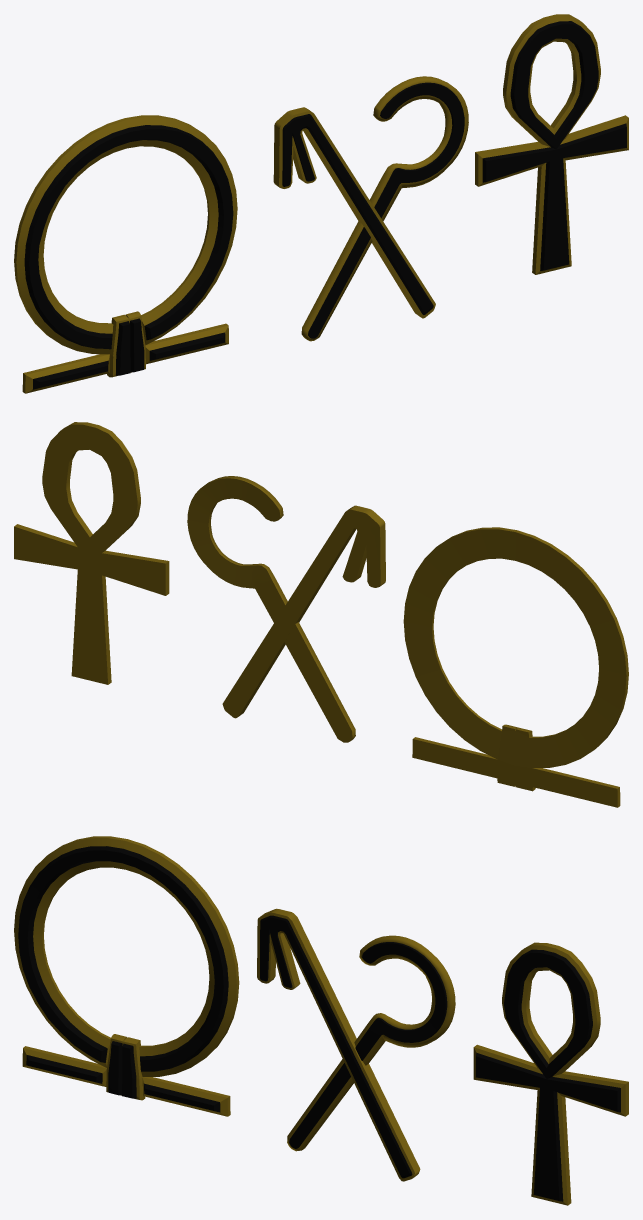
Rendered from Jeroglificos.fbx.
3 renders of one model, top to bottom at view 1: azimuth 30°, elevation 25°; view 2: azimuth 150°, elevation 25°; view 3: azimuth 330°, elevation 25°, orthographic.
Parts seen in each view (by area): view 1: pSphere1, pSphere3, pCube1; view 2: pSphere1, pSphere3, pCube1; view 3: pSphere1, pSphere3, pCube1.
Part boxes in pixels (x1,y1,x2,y2): pSphere1: (14, 115, 237, 393); pSphere3: (273, 76, 468, 341); pCube1: (475, 14, 628, 274); pSphere1: (403, 527, 628, 807); pSphere3: (187, 476, 385, 742); pCube1: (14, 422, 169, 684); pSphere1: (14, 836, 239, 1116); pSphere3: (257, 908, 455, 1181); pCube1: (473, 942, 628, 1205).
Bounding box in the file's own units: 13.4 × 5.47 × 0.5313.
